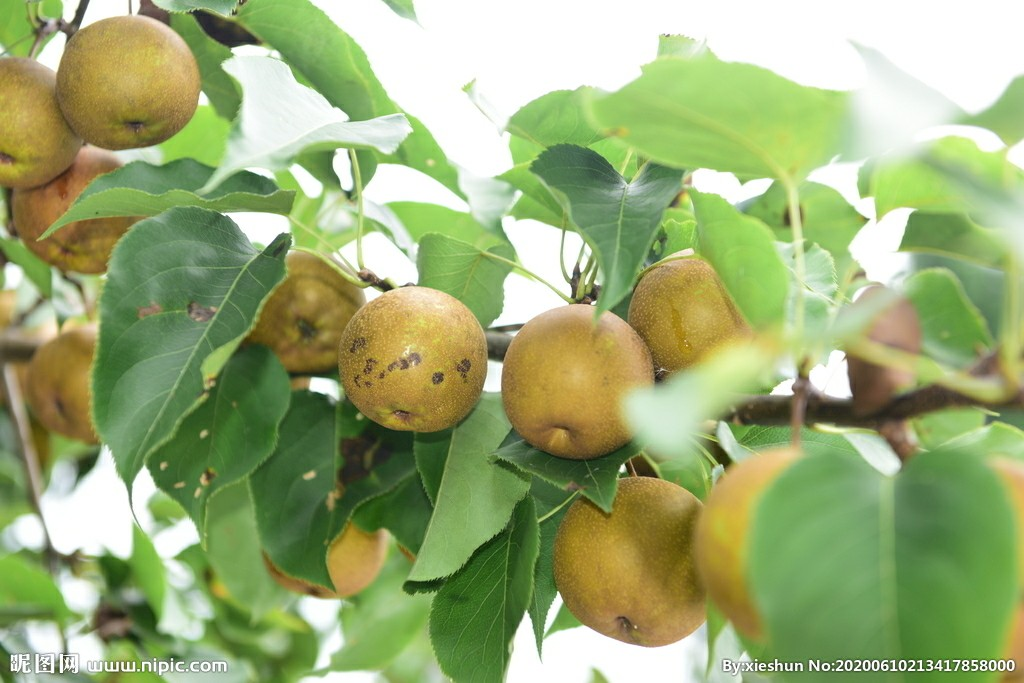pear: (692, 443, 863, 624), (552, 477, 717, 649), (502, 301, 657, 457), (338, 287, 487, 433), (14, 138, 157, 273), (56, 16, 200, 149), (259, 468, 392, 597), (629, 251, 766, 363), (27, 328, 146, 448), (244, 250, 361, 371), (1, 57, 83, 190)
